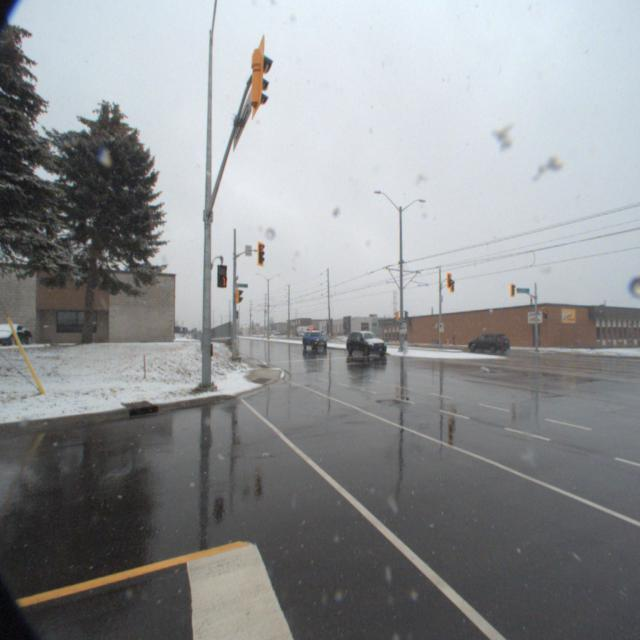Car: (340, 328, 388, 356), (467, 332, 517, 354), (297, 327, 329, 352)
